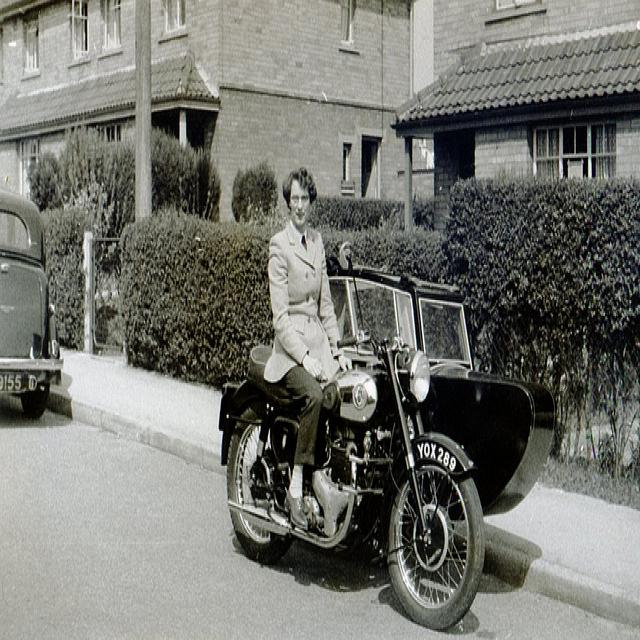motor: (212, 239, 492, 630)
